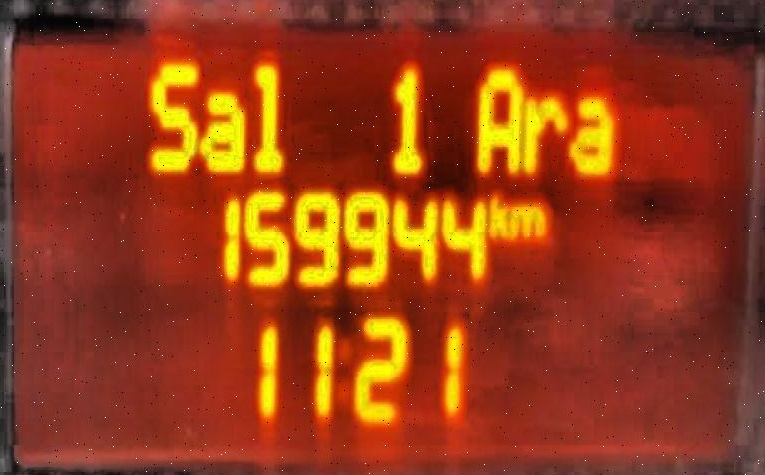1: (386, 58, 423, 178), (258, 318, 279, 428), (314, 317, 333, 428), (444, 315, 463, 420), (221, 188, 240, 282)
2: (355, 310, 410, 430)
4: (390, 190, 440, 278), (440, 188, 486, 283)
5: (244, 183, 289, 287)
9: (344, 187, 388, 287), (295, 186, 336, 285)
X: (149, 55, 196, 175), (477, 58, 521, 175), (247, 57, 285, 177), (569, 87, 615, 177), (199, 83, 245, 173), (522, 87, 566, 177), (509, 198, 554, 242), (488, 188, 509, 242)
